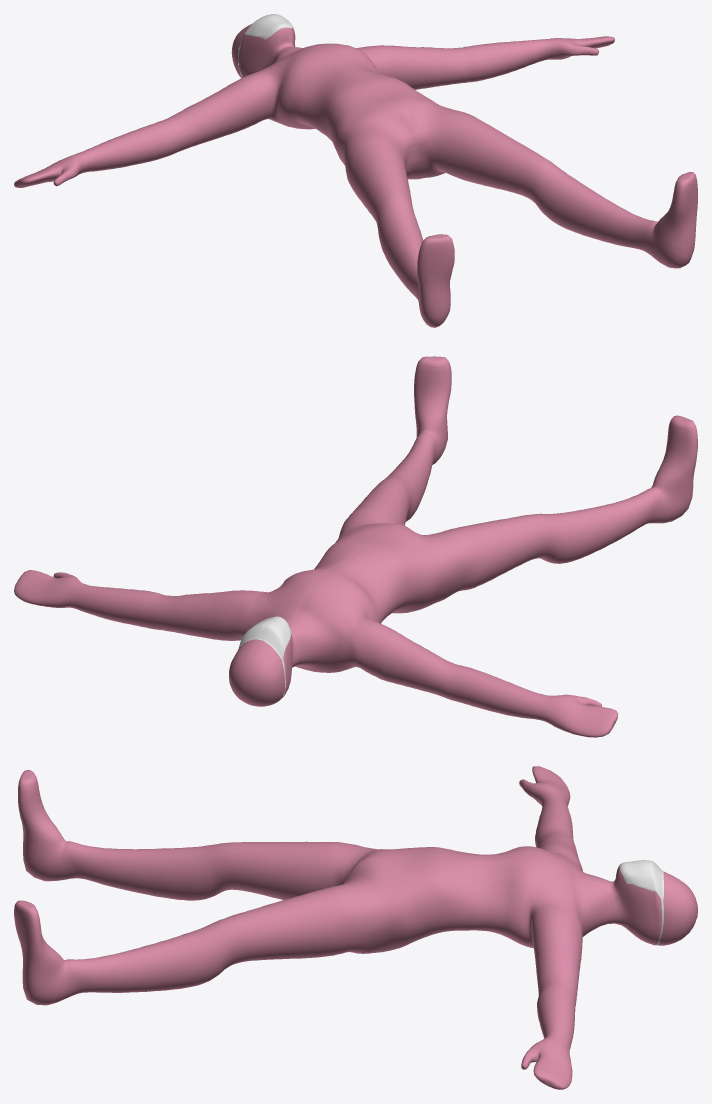
The model's file is Macy_Laying_pose.glb.
The picture shows the model from 3 angles, top to bottom: view 1: azimuth 30°, elevation 25°; view 2: azimuth 150°, elevation 25°; view 3: azimuth 270°, elevation 25°; orthographic projection. The views are drawn at different scales.
Visible parts, largest first — view 1: model_3:_walk1_skin-blinn3, model_3:_walk1_skin-aiStandardSurface1; view 2: model_3:_walk1_skin-blinn3, model_3:_walk1_skin-aiStandardSurface1; view 3: model_3:_walk1_skin-blinn3, model_3:_walk1_skin-aiStandardSurface1.
Boxes of the visible parts, x1=… form: model_3:_walk1_skin-blinn3: x1=14, y1=24, x2=697, y2=327; model_3:_walk1_skin-aiStandardSurface1: x1=242, y1=14, x2=294, y2=39; model_3:_walk1_skin-blinn3: x1=14, y1=356, x2=697, y2=737; model_3:_walk1_skin-aiStandardSurface1: x1=238, y1=616, x2=291, y2=659; model_3:_walk1_skin-blinn3: x1=14, y1=766, x2=697, y2=1089; model_3:_walk1_skin-aiStandardSurface1: x1=619, y1=860, x2=663, y2=900.
Size of the model in its own units: 229 by 35.62 by 214.
